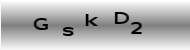2: (129, 21, 144, 35)
D: (113, 10, 130, 25)
G: (32, 16, 48, 30)
k: (84, 11, 99, 27)
s: (61, 26, 75, 37)
